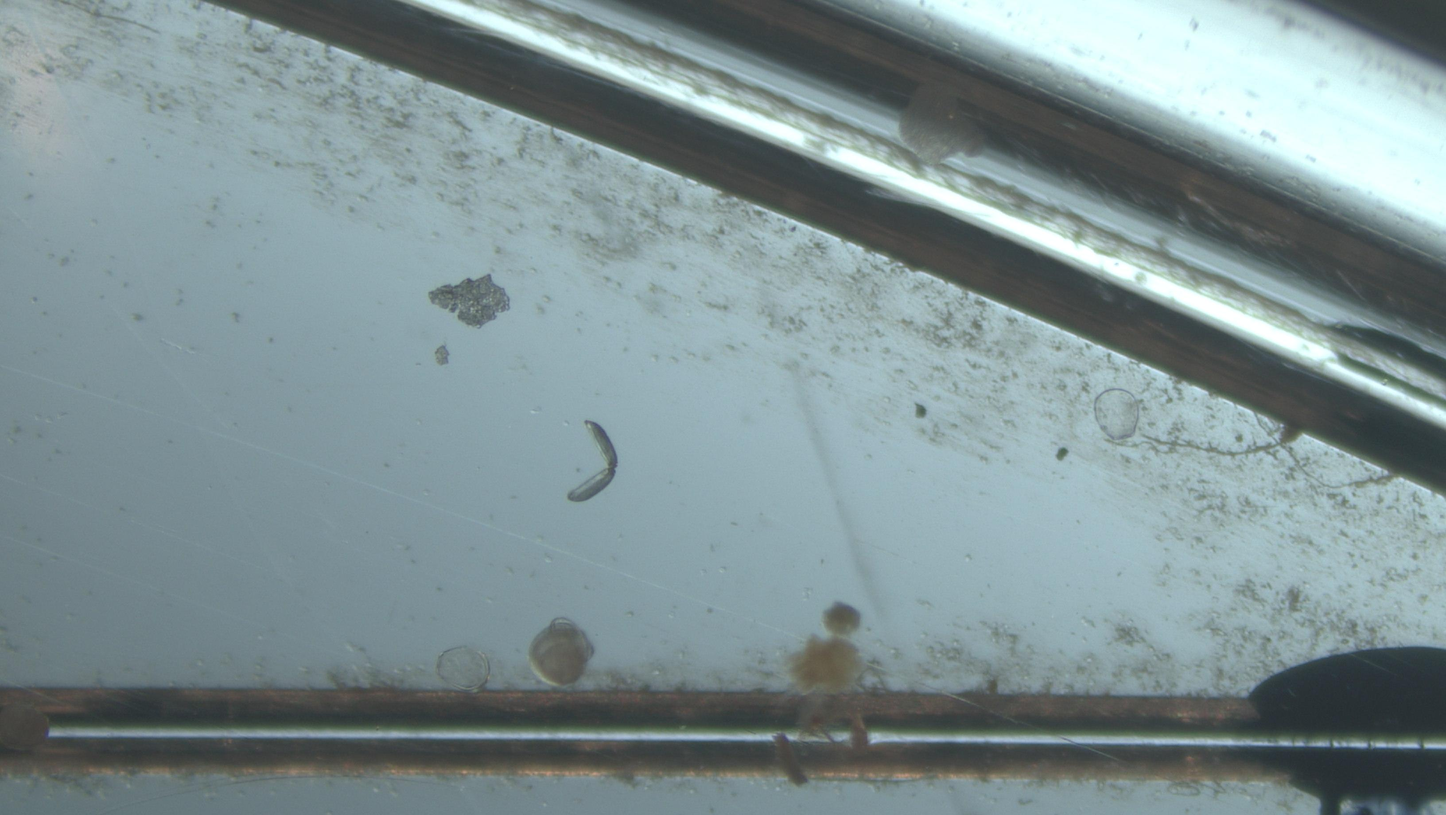dead: (1094, 389, 1142, 441), (437, 647, 490, 692)
live: (529, 618, 594, 687)
